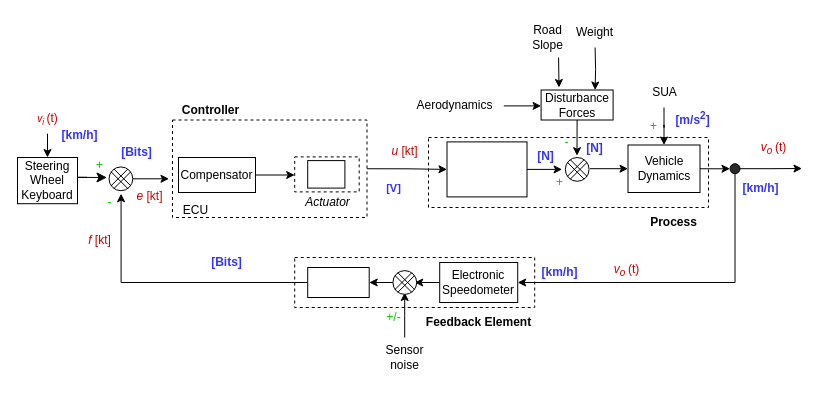
Some shapes in this 828 by 394 pixel diagram are drawn without their labels. The shapes that lost their labels are listed below. From the top down, each one's centre as x and y in pixels, then its label:
pixel 326 174: ETC
pixel 486 169: Motor
pixel 338 282: A-to-D
